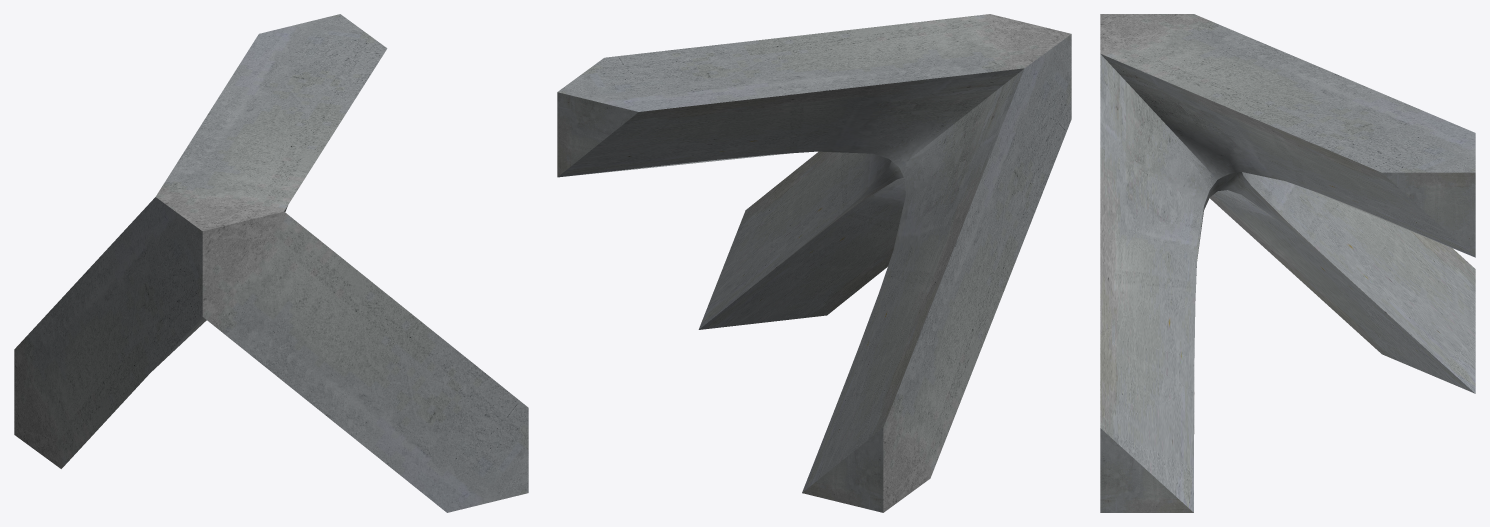
Rendered from module_Q1.fbx.
3 renders of one model, left to right at view 1: azimuth 30°, elevation 25°; view 2: azimuth 150°, elevation 25°; view 3: azimuth 270°, elevation 25°, orthographic.
Visible parts, largest first — view 1: modules; view 2: modules; view 3: modules.
Boxes of the visible parts, bbox=[...] form: modules: bbox=[14, 14, 528, 512]; modules: bbox=[557, 14, 1071, 512]; modules: bbox=[1100, 14, 1475, 512].
Bounding box in the file's own units: 1000 × 1000 × 1000.
1 material, 1 textured.
